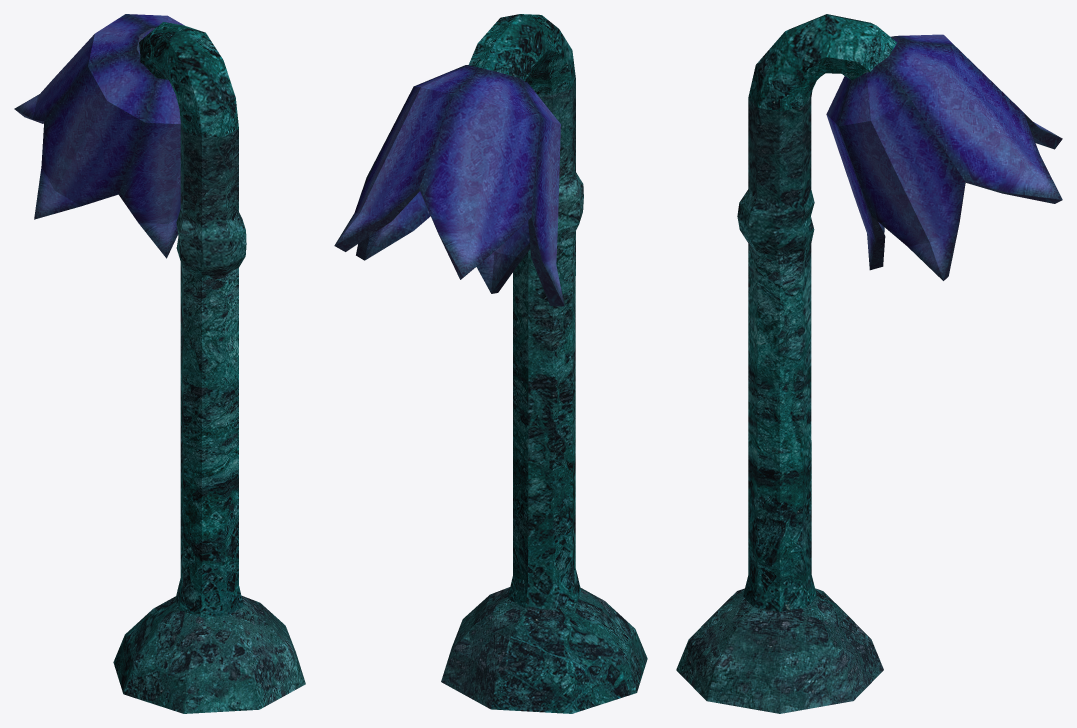
File: Lamp.fbx
3 views of the same model, side by side, from view 1: azimuth 30°, elevation 25°; view 2: azimuth 150°, elevation 25°; view 3: azimuth 270°, elevation 25° (orthographic). The views are drawn at different scales.
Visible parts, largest first — view 1: Bell; view 2: Bell; view 3: Bell.
Part boxes in pixels (x1,y1,x2,y2): Bell: [14, 14, 305, 713]; Bell: [334, 14, 647, 713]; Bell: [676, 14, 1062, 713].
Bounding box in the file's own units: 223 × 368 × 687.
